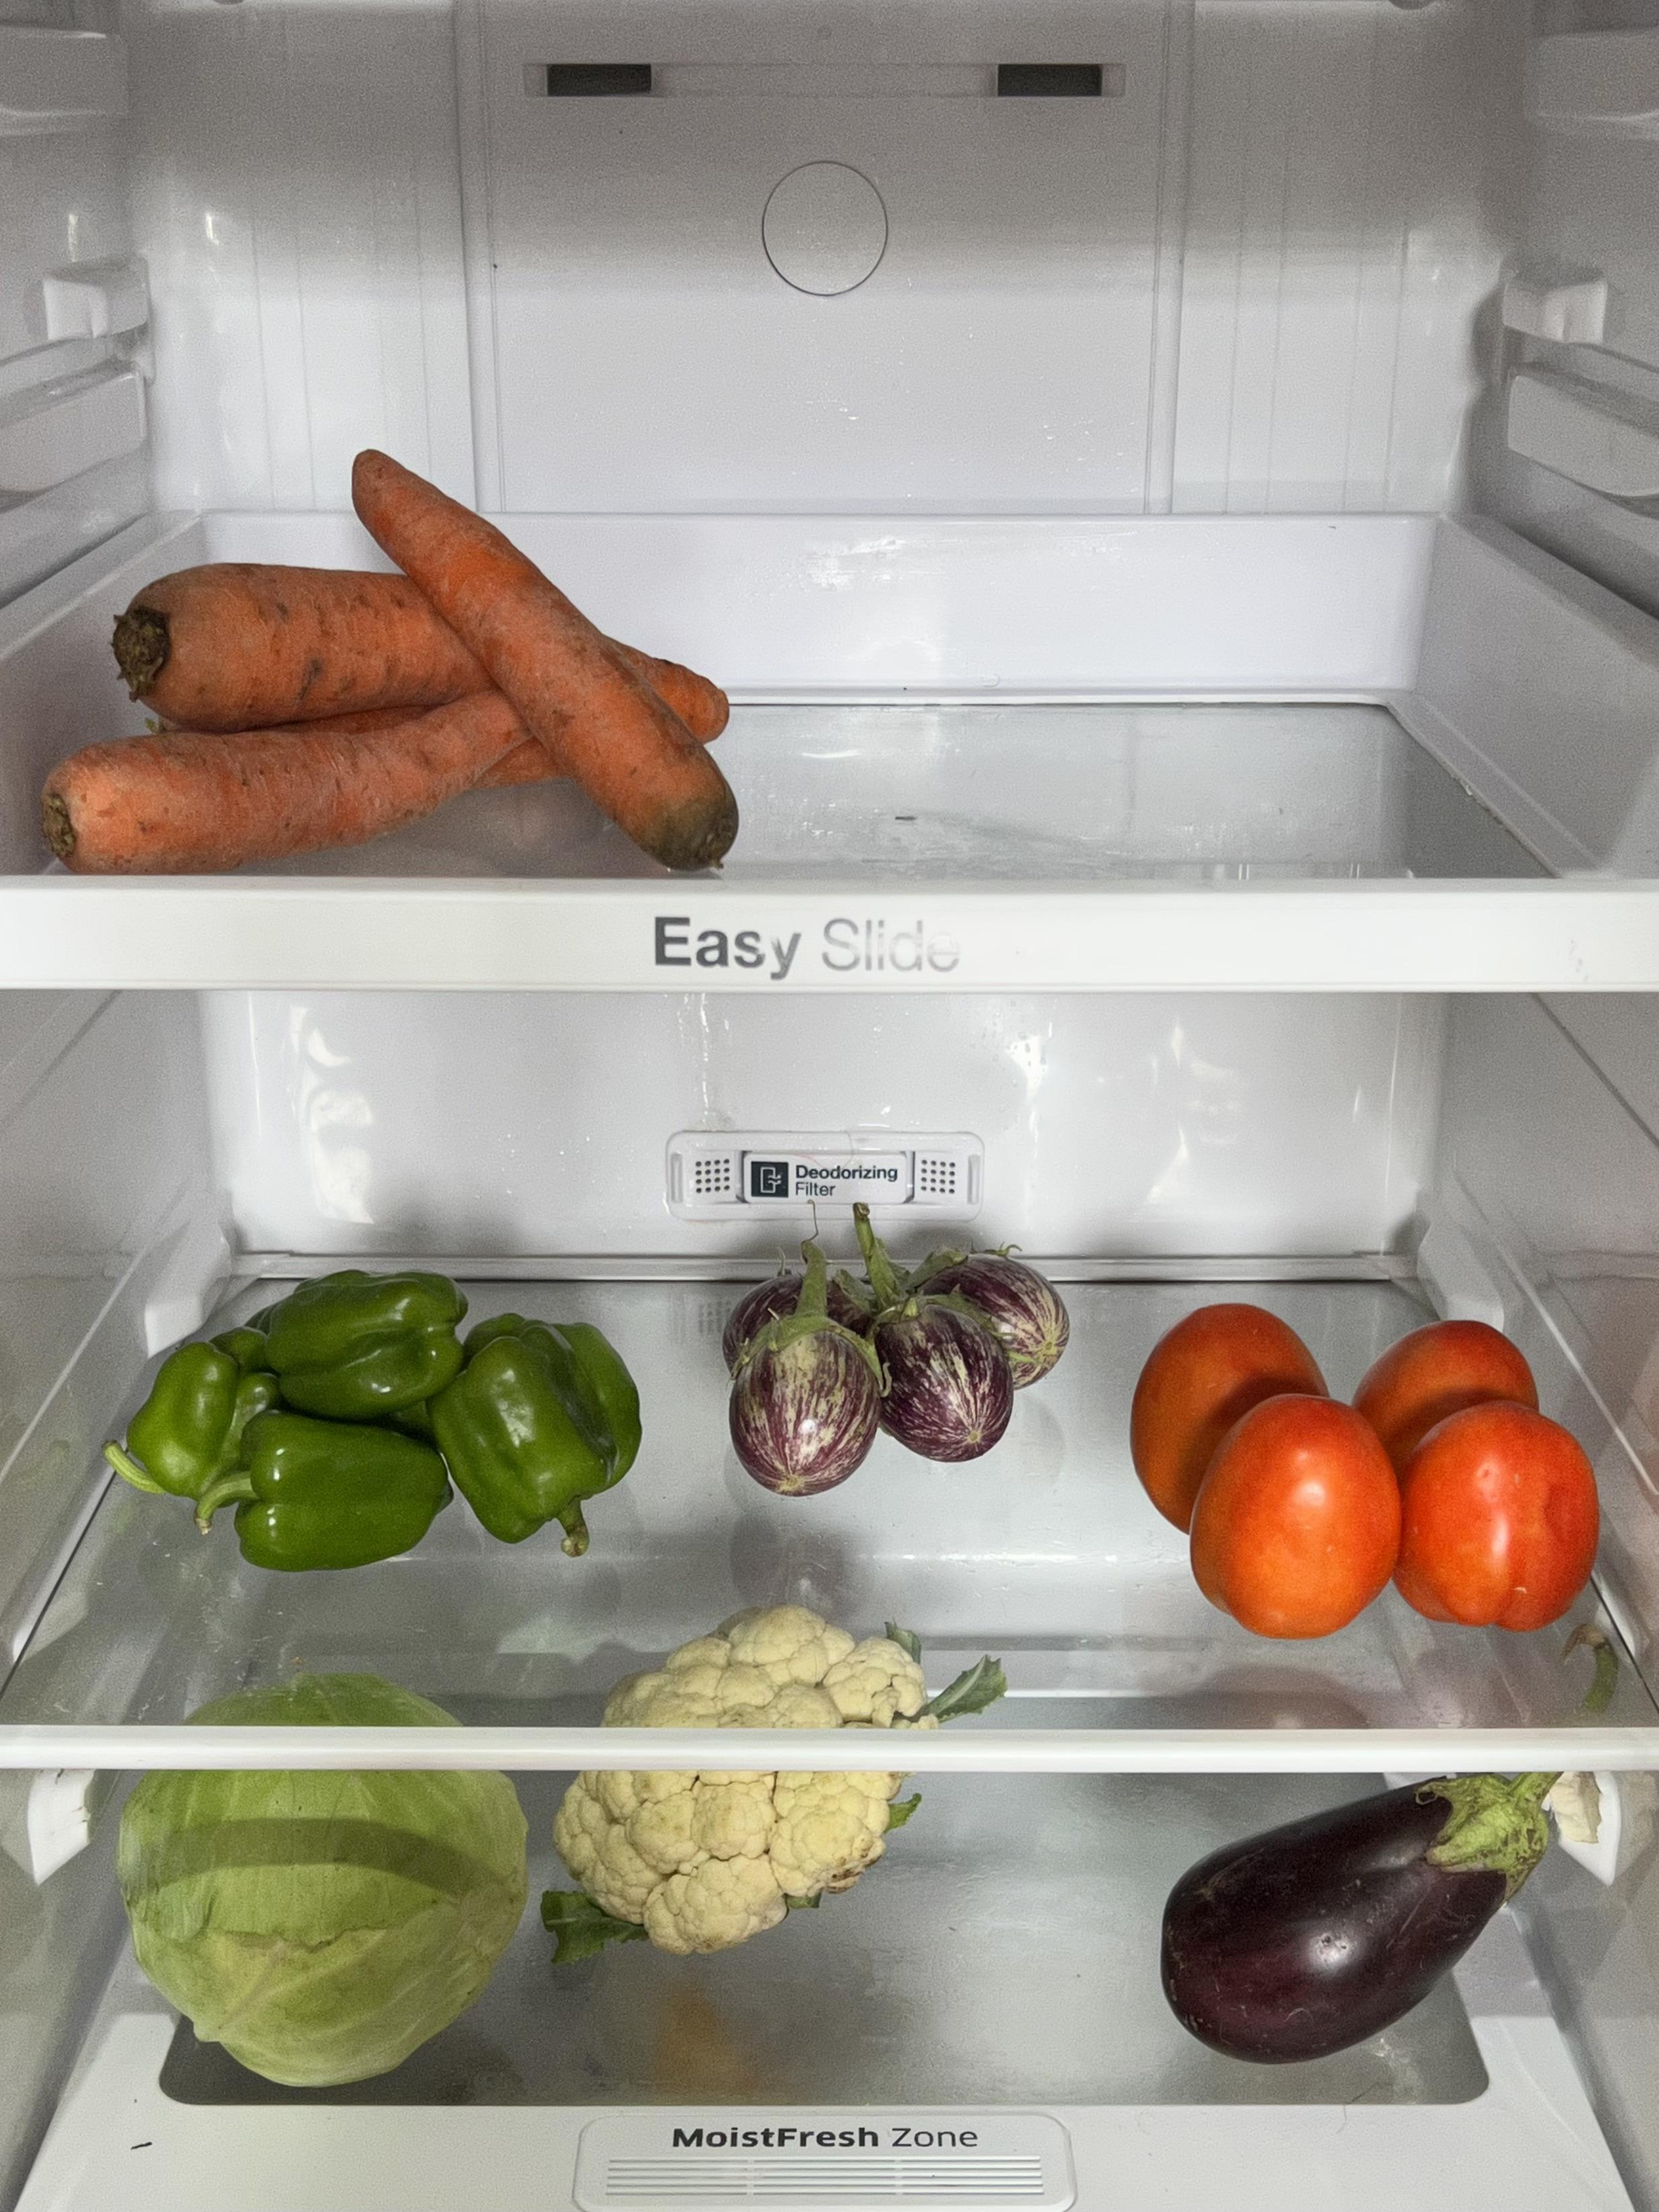bringal: (1165, 1777, 1549, 2066), (721, 1241, 1061, 1486)
cabbage: (120, 1766, 524, 2074)
capsicum: (120, 1264, 649, 1567)
carrots: (43, 564, 735, 865)
cauliflower: (556, 1605, 939, 1938)
tomato: (1134, 1295, 1590, 1631)
